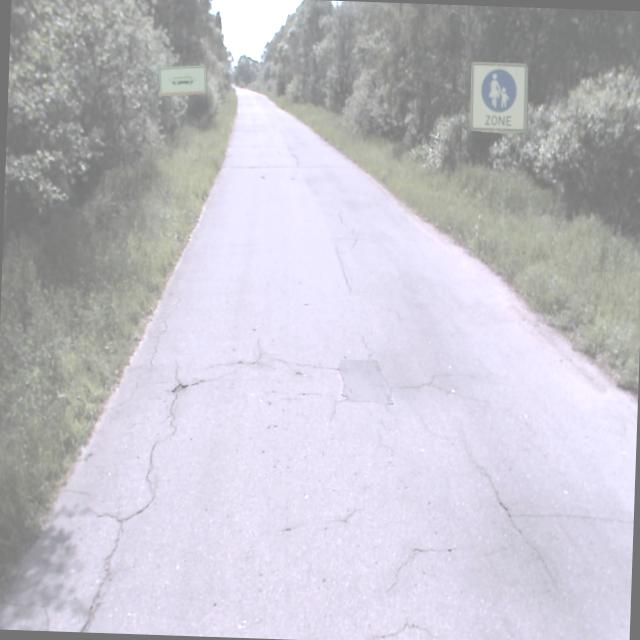road: (0, 84, 637, 640)
